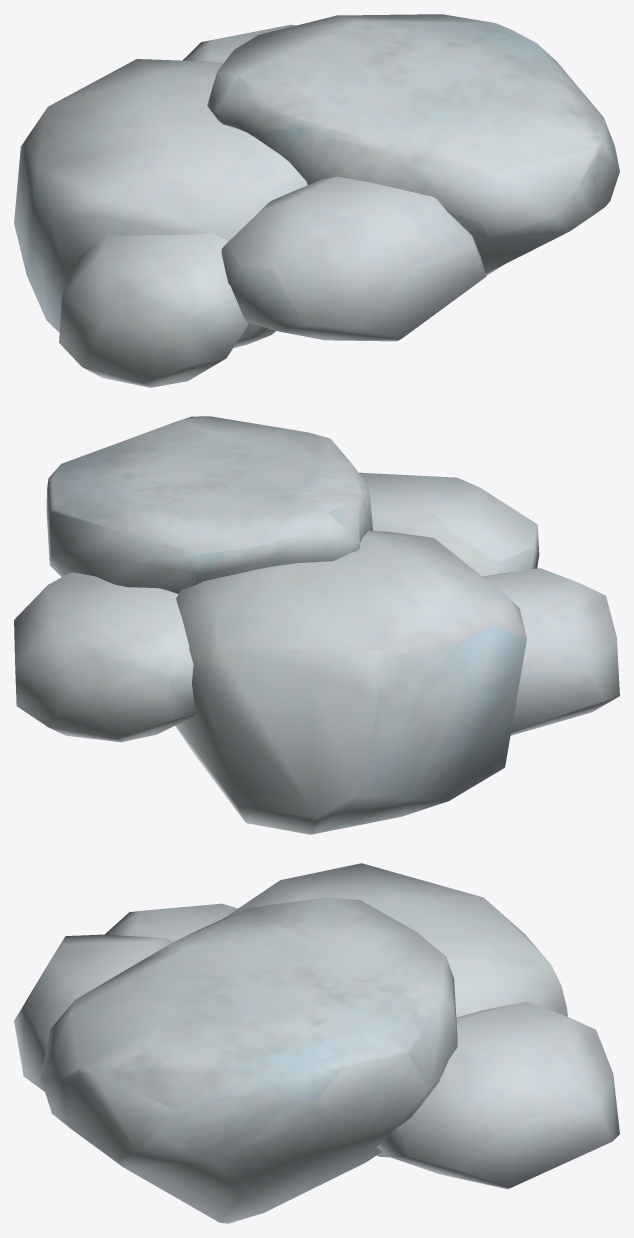
The model's file is P_RockClumpClassic6.obj.
3 views of the same model, one above another, from view 1: azimuth 30°, elevation 25°; view 2: azimuth 150°, elevation 25°; view 3: azimuth 270°, elevation 25° (orthographic). The views are drawn at different scales.
Size of the model in its own units: 3.15 by 1.35 by 2.94.
